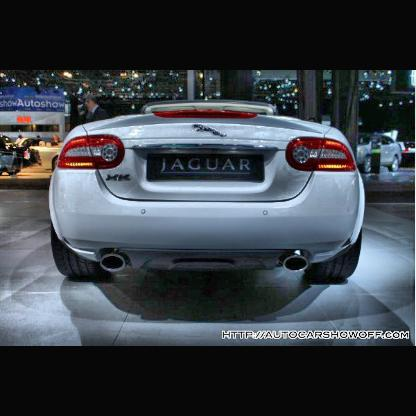Jaguar XK XKR 2012: (49, 102, 367, 284)
